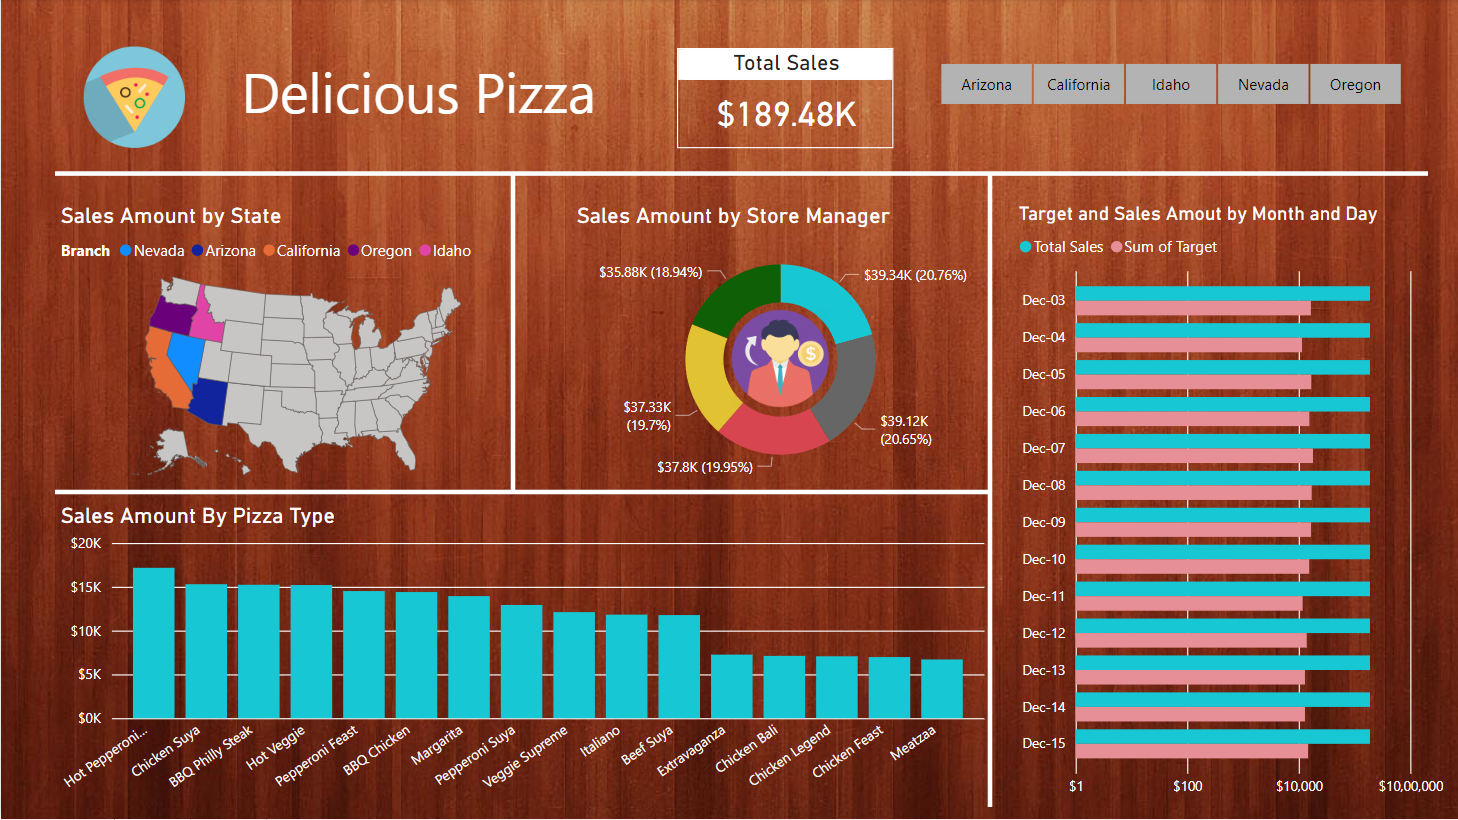

The dashboard page shown, as its layout file describes it:
{"tool":"powerbi","page":{"name":"Page 1","canvas":[1280,720],"ordinal":0},"visuals":[{"type":"card","title":"Total Sales","fields":{"Values":["Measures (2).Total Sales"]},"box":[593.8,42.8,190.5,88.4],"z":0},{"type":"donutChart","title":"Sales Amount by Store Manager","fields":{"Y":["Measures (2).Total Sales"],"Category":["Branch Data.Manager"]},"box":[500.5,178.2,367.9,254.6],"z":1000},{"type":"image","box":[635.7,265.2,97.5,101],"z":2000},{"type":"columnChart","title":"Sales Amount By Pizza Type","fields":{"Y":["Measures (2).Total Sales"],"Category":["Sales.Pizza Type"]},"box":[47.4,441.7,821,267.8],"z":3000},{"type":"clusteredBarChart","title":"Target and Sales Amout by Month and Day","fields":{"Y":["Measures (2).Total Sales","Sum(Daily Target.Target)"],"Category":["Daily Target.formate"]},"box":[888.6,178.2,382.8,531.2],"z":4000},{"type":"shapeMap","title":"Sales Amount  by State","fields":{"Value":["Measures (2).Total Sales"],"Category":["Branch Data.Branch"],"Series":["Branch Data.Branch"]},"box":[47.4,178.2,424.1,254.6],"z":5000},{"type":"slicer","fields":{"Values":["Branch Data.Branch"]},"box":[799.9,50,453.1,49.2],"z":6000},{"type":"textbox","box":[177.4,43,378.4,73.8],"z":7000},{"type":"image","box":[67.6,30.7,99.2,111.5],"z":8000},{"type":"shape","box":[47.4,109.8,1205.6,87],"z":9000},{"type":"shape","box":[718.2,153.7,300.3,555.8],"z":10000},{"type":"shape","box":[47.4,282.7,821,300.3],"z":11000},{"type":"shape","box":[299.4,153.7,300.3,278.3],"z":12000}]}

Visuals, with their boxes in screenshot pixels (x1, y1, x2, y2), scaled from the page's 1280x720 canvas onto the 1458x820 screenshot:
"Total Sales" card: [676,49,893,149]
"Sales Amount by Store Manager" donutChart: [570,203,989,493]
image: [724,302,835,417]
"Sales Amount By Pizza Type" columnChart: [54,503,989,808]
"Target and Sales Amout by Month and Day" clusteredBarChart: [1012,203,1448,808]
"Sales Amount  by State" shapeMap: [54,203,537,493]
slicer - Branch Data.Branch: [911,57,1427,113]
textbox: [202,49,633,133]
image: [77,35,190,162]
shape: [54,125,1427,224]
shape: [818,175,1160,808]
shape: [54,322,989,664]
shape: [341,175,683,492]
